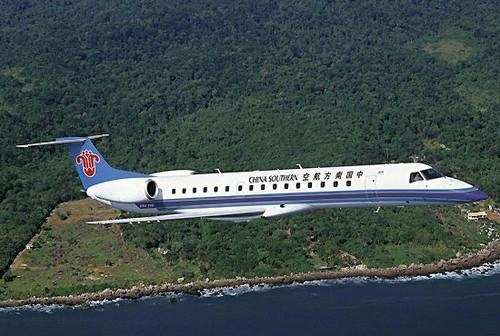airplane: (14, 130, 492, 226)
